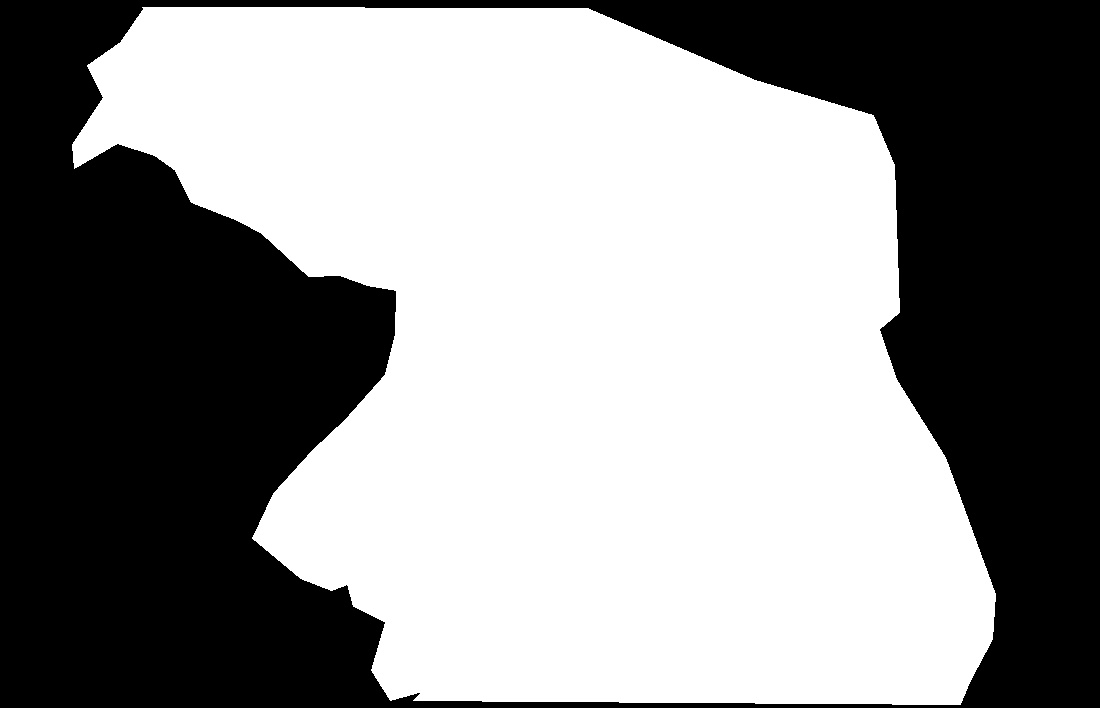Fire: (77, 33, 947, 708)
